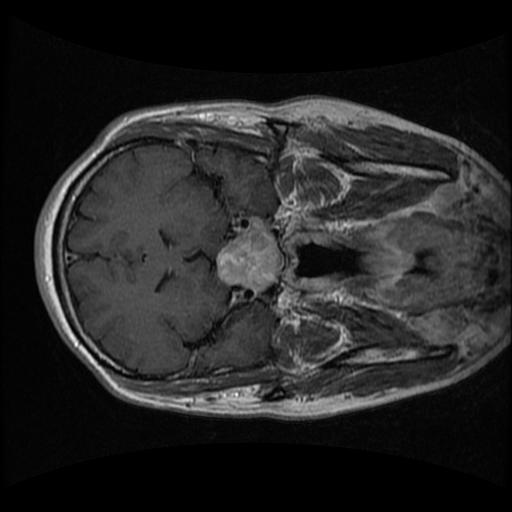pituitary tumour: (214, 215, 284, 294)
